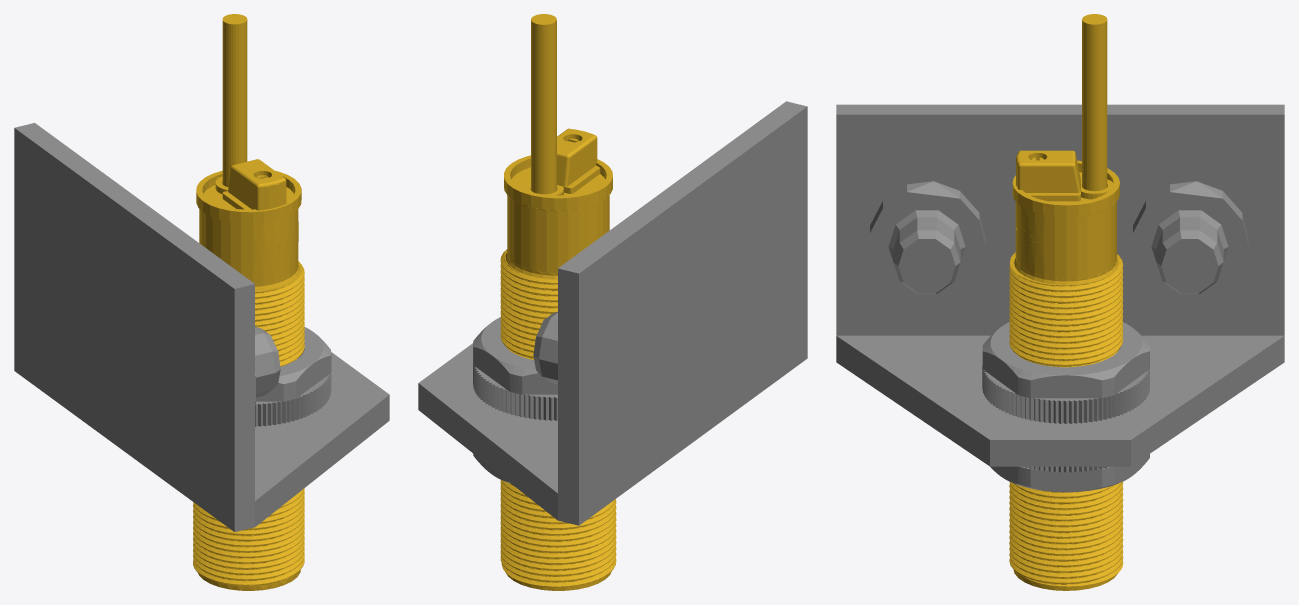
The model's file is sensor2.FBX.
The picture shows the model from 3 angles, left to right: view 1: azimuth 30°, elevation 25°; view 2: azimuth 150°, elevation 25°; view 3: azimuth 270°, elevation 25°; orthographic projection. The views are drawn at different scales.
Visible parts, largest first — view 1: Sphere002; view 2: Sphere002; view 3: Sphere002.
Part boxes in pixels (bbox=[...]): Sphere002: bbox=[14, 14, 389, 590]; Sphere002: bbox=[418, 14, 807, 590]; Sphere002: bbox=[836, 14, 1284, 590].
Bounding box in the file's own units: 6.36 × 14.21 × 10.52.
